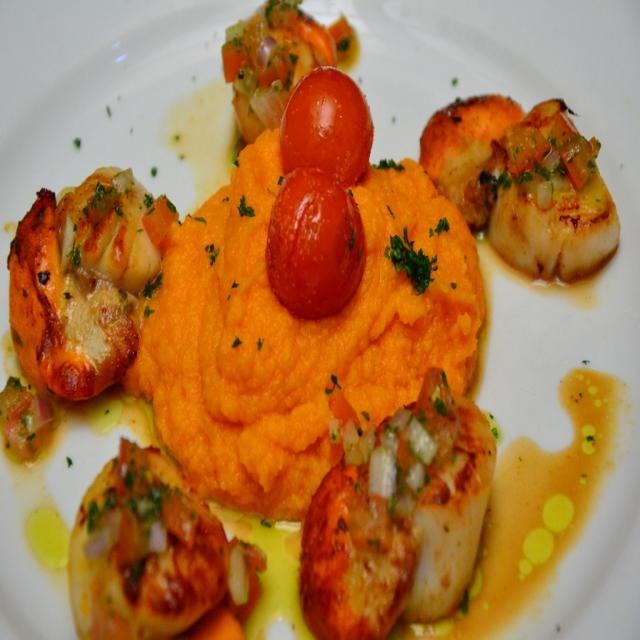Tomato: (265, 169, 365, 315), (284, 67, 378, 186)
